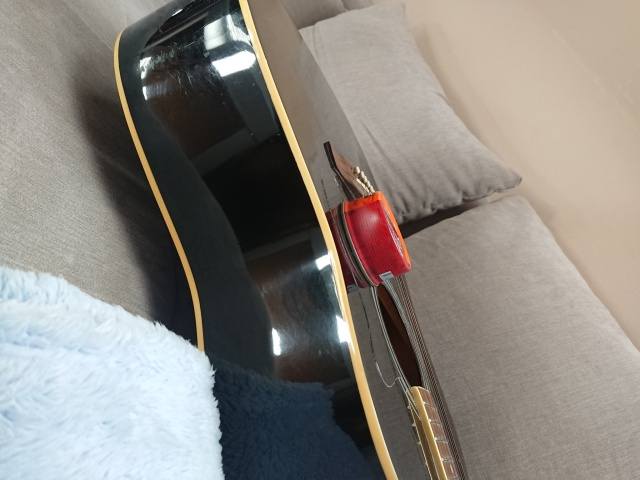Gavrilovic Pork Liver Pate 100g: (338, 189, 414, 289)
